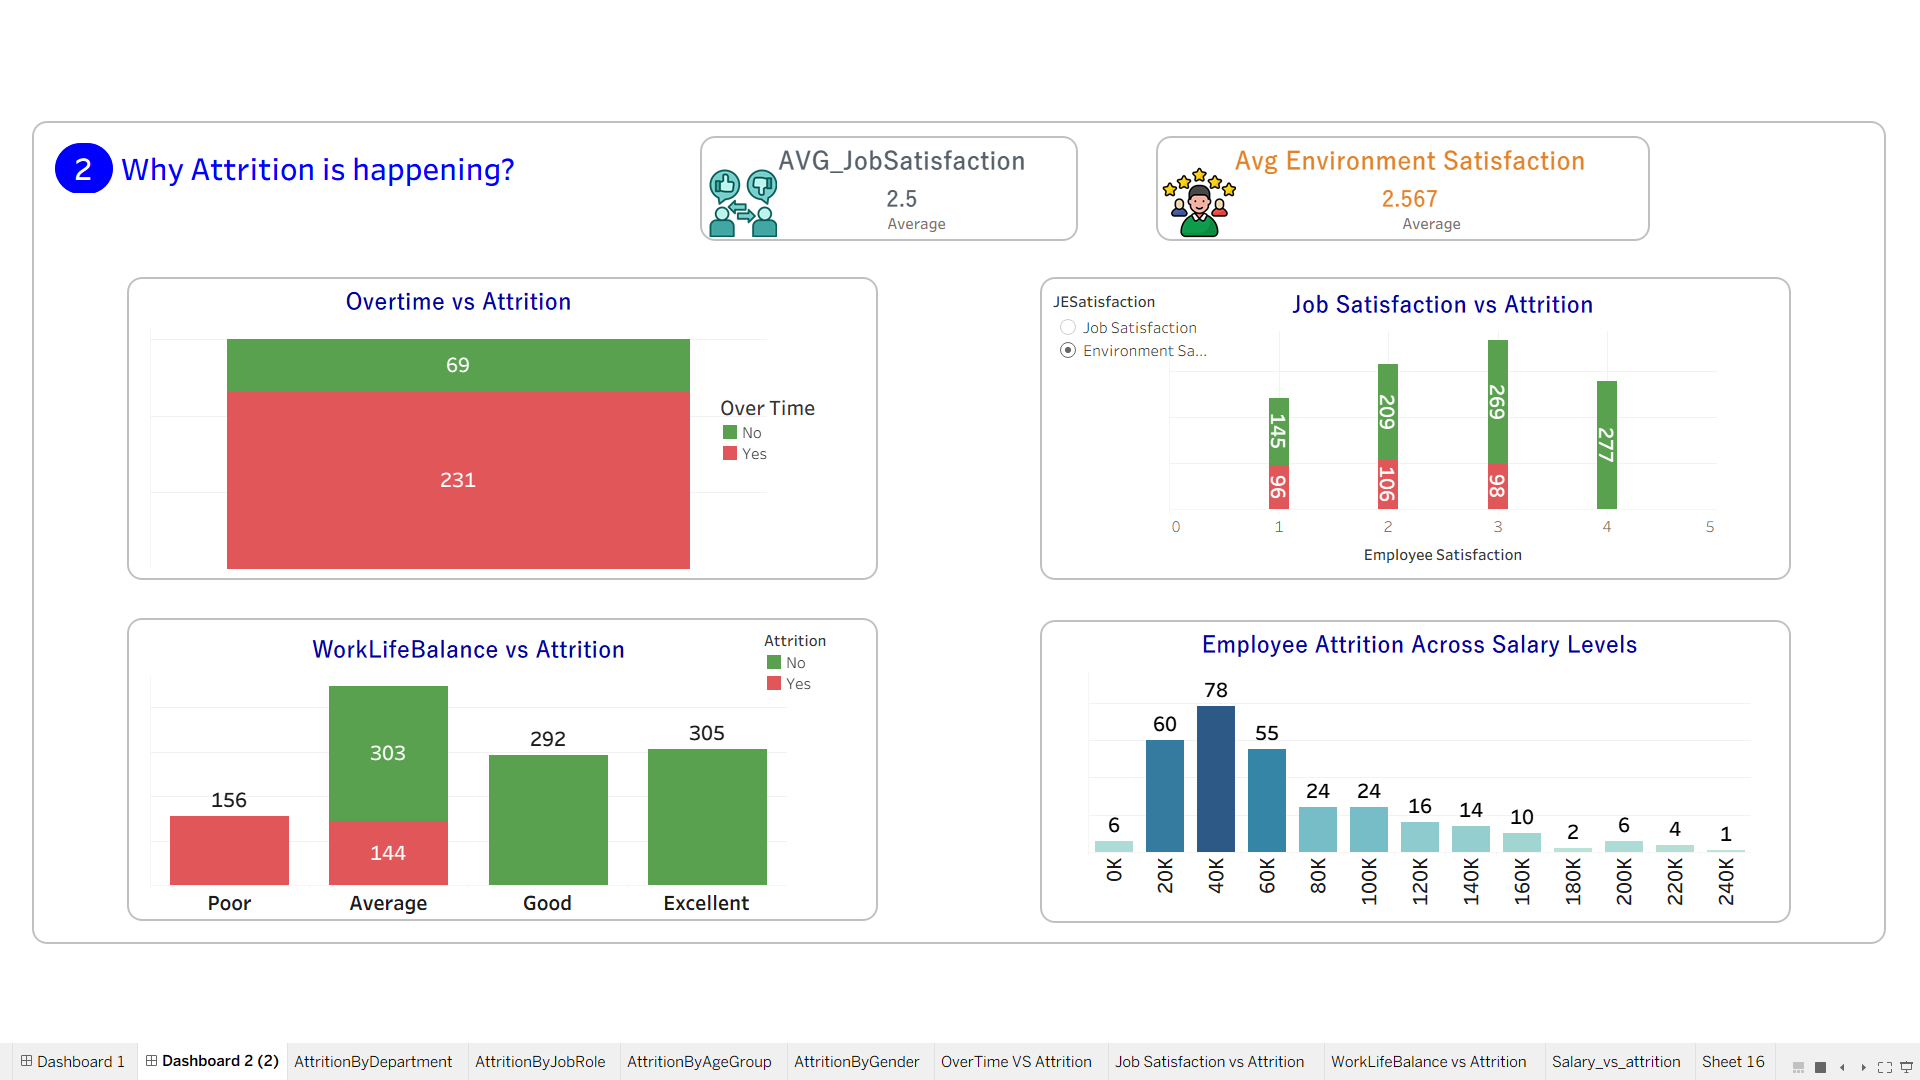

The dashboard page shown, as its layout file describes it:
{"tool":"tableau","page":{"name":"Dashboard 2 (2)","canvas":[1000,1000],"units":"permille","ordinal":1},"visuals":[{"type":"blank","box":[16.9,35.2,965.7,956.5]},{"type":"blank","box":[364.8,52.9,196.9,122.2]},{"type":"blank","box":[602.1,52.9,257.1,122.2]},{"type":"text","box":[28.3,58.8,30.1,58.8]},{"type":"text","box":[60.8,58.8,246.8,58.8]},{"type":"blank","box":[28.9,59.9,30.1,58.8]},{"type":"worksheet","title":"KPI_Avg_Job_Satisfaction","mark":"Automatic","box":[402.2,63.5,156.5,94]},{"type":"worksheet","title":"KPI_Avg_Enviro_stas","mark":"Automatic","box":[640.6,63.5,216.7,83.4]},{"type":"image","param":"Image/customer.png","box":[605.1,85.8,38.5,94]},{"type":"image","param":"Image/review.png","box":[369.1,90.5,35.5,79.9]},{"type":"text","box":[460.6,136.3,39.1,36.4]},{"type":"text","box":[728.5,136.3,37.3,36.4]},{"type":"blank","box":[66.2,216.2,391.3,352.5]},{"type":"blank","box":[541.8,216.2,391.3,352.5]},{"type":"worksheet","title":"OverTime VS Attrition","mark":"Automatic","rows":["Attrition"],"box":[78.3,223.3,321.5,332.6]},{"type":"worksheet","title":"Job Satisfaction vs Attrition","mark":"Bar","rows":["Age"],"cols":["Calculation_1333436691361795"],"box":[608.7,226.8,285.4,332.6]},{"type":"parameter","param":"[Parameters].[Parameter 1]","box":[548.5,232.7,83.1,88.1]},{"type":"legend","title":"OverTime VS Attrition","param":"[federated.0n4uwvf1vhx9g50zst77a00rmqpx].[none:OverTime:nk]","box":[375.1,351.4,72.9,84.6]},{"type":"blank","box":[66.2,612.2,391.3,352.5]},{"type":"blank","box":[541.8,614.6,391.3,352.5]},{"type":"worksheet","title":"Salary_vs_attrition","mark":"Bar","rows":["Age"],"cols":["Monthly Income (bin)"],"box":[566.5,621.6,345.6,332.6]},{"type":"legend","title":"WorkLifeBalance vs Attrition","param":"[federated.0n4uwvf1vhx9g50zst77a00rmqpx].[none:Attrition:nk]","box":[397.9,626.3,44.6,76.4]},{"type":"worksheet","title":"WorkLifeBalance vs Attrition","mark":"Bar","rows":["Attrition"],"cols":["Calculation_0771861107924992"],"box":[78.3,627.5,331.7,332.6]}]}

Visuals, with their boxes on the dashboard's canvas, which has no fixed pixel size, in thousandths of its width and height (x1, y1, x2, y2). These are canvas units, not pixel positions in the 1920x1080 screenshot, which may show the page scaled, cropped or inside an application window:
blank: [17, 35, 983, 992]
blank: [365, 53, 562, 175]
blank: [602, 53, 859, 175]
text: [28, 59, 58, 118]
text: [61, 59, 308, 118]
blank: [29, 60, 59, 119]
"KPI_Avg_Job_Satisfaction" worksheet: [402, 64, 559, 158]
"KPI_Avg_Enviro_stas" worksheet: [641, 64, 857, 147]
image: [605, 86, 644, 180]
image: [369, 90, 405, 170]
text: [461, 136, 500, 173]
text: [728, 136, 766, 173]
blank: [66, 216, 458, 569]
blank: [542, 216, 933, 569]
"OverTime VS Attrition" worksheet: [78, 223, 400, 556]
"Job Satisfaction vs Attrition" worksheet (Bar marks): [609, 227, 894, 559]
parameter: [548, 233, 632, 321]
"OverTime VS Attrition" legend: [375, 351, 448, 436]
blank: [66, 612, 458, 965]
blank: [542, 615, 933, 967]
"Salary_vs_attrition" worksheet (Bar marks): [566, 622, 912, 954]
"WorkLifeBalance vs Attrition" legend: [398, 626, 442, 703]
"WorkLifeBalance vs Attrition" worksheet (Bar marks): [78, 628, 410, 960]
